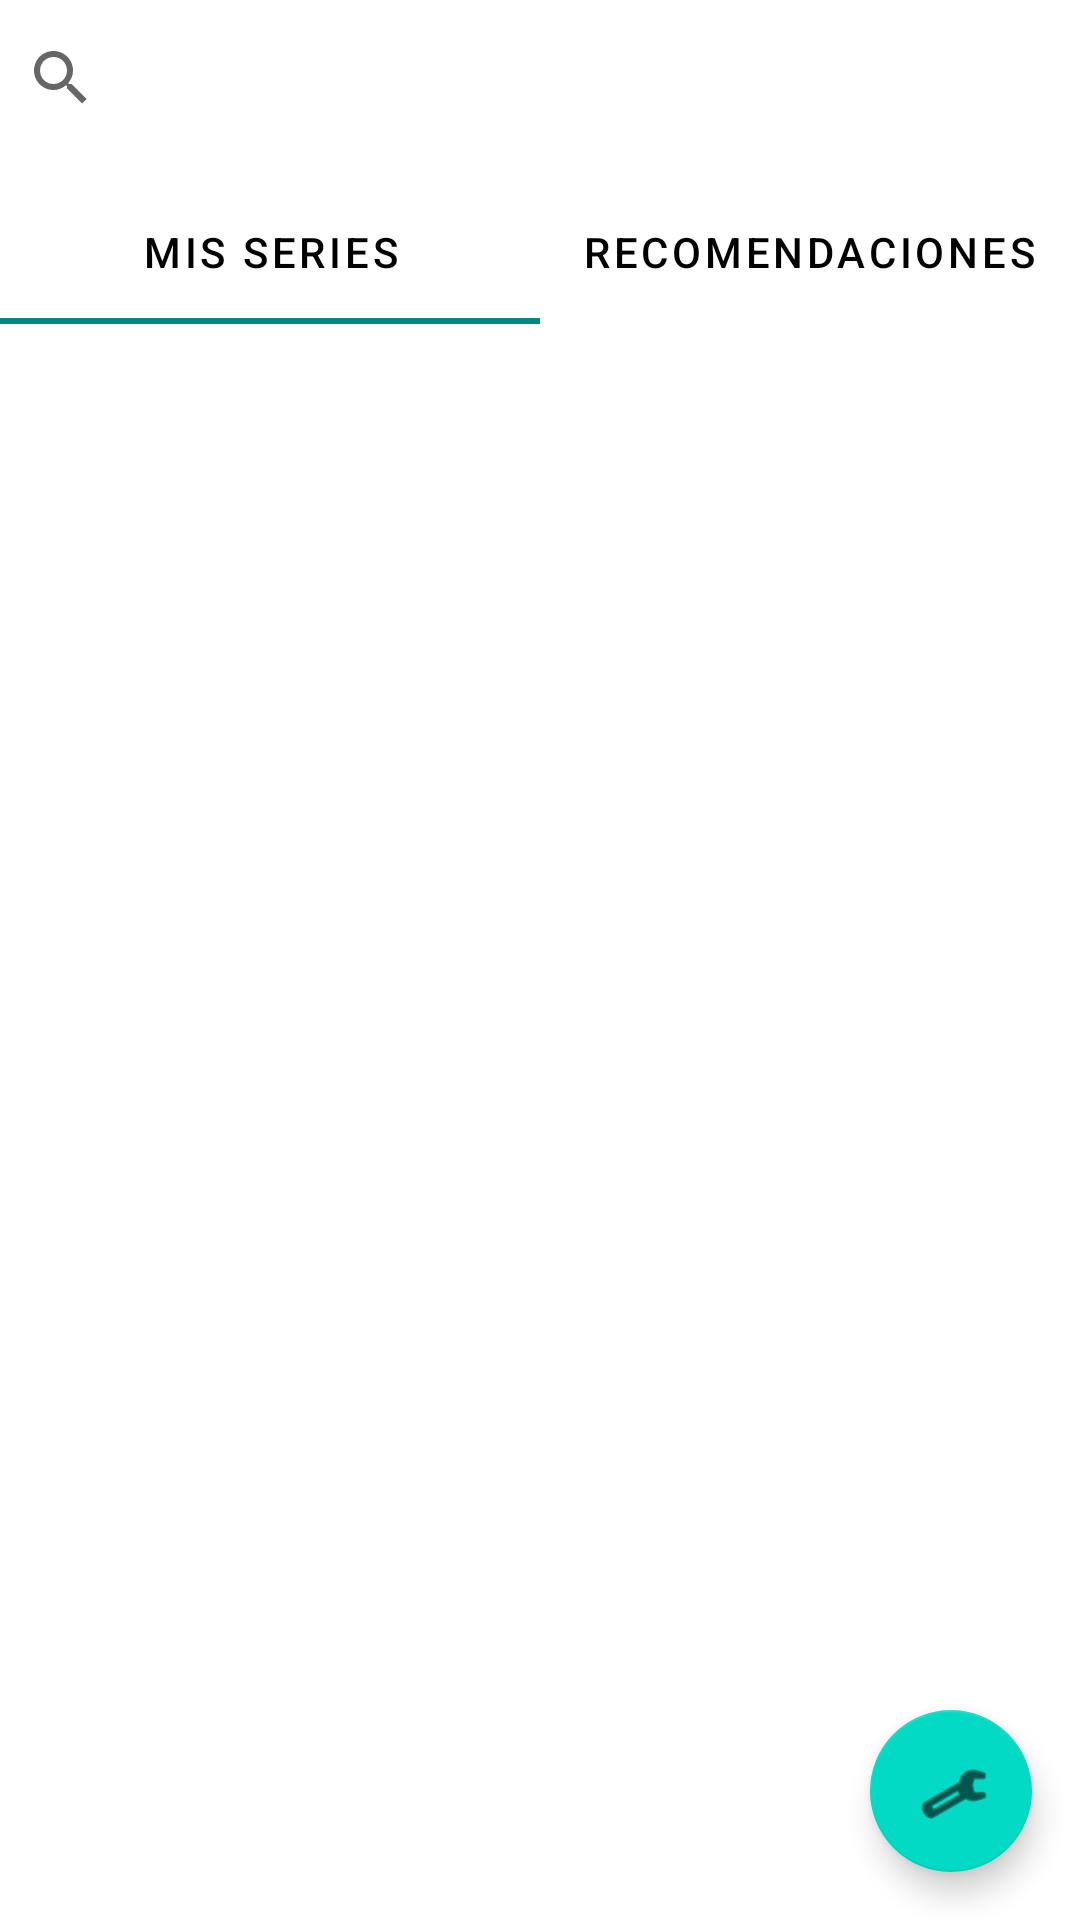

Icons on this 1080w x 1920h Android screen, each with the point to tap as (x=x, y=y):
manage: (x=951, y=1791)
